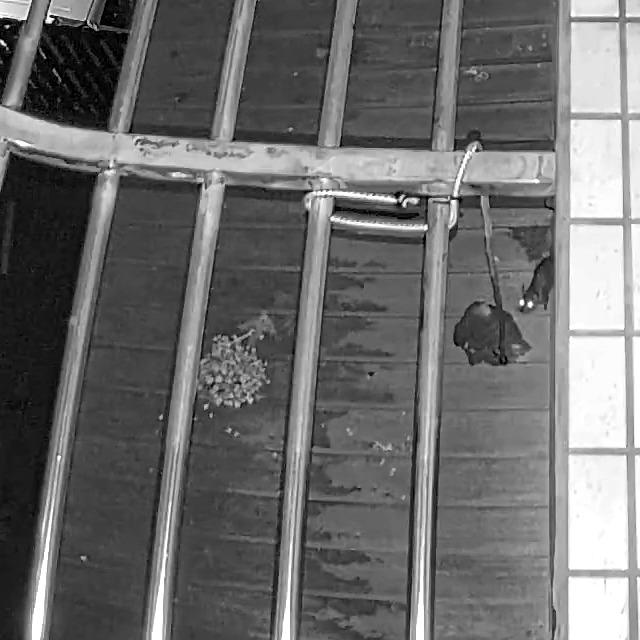rat: (517, 197, 556, 318)
